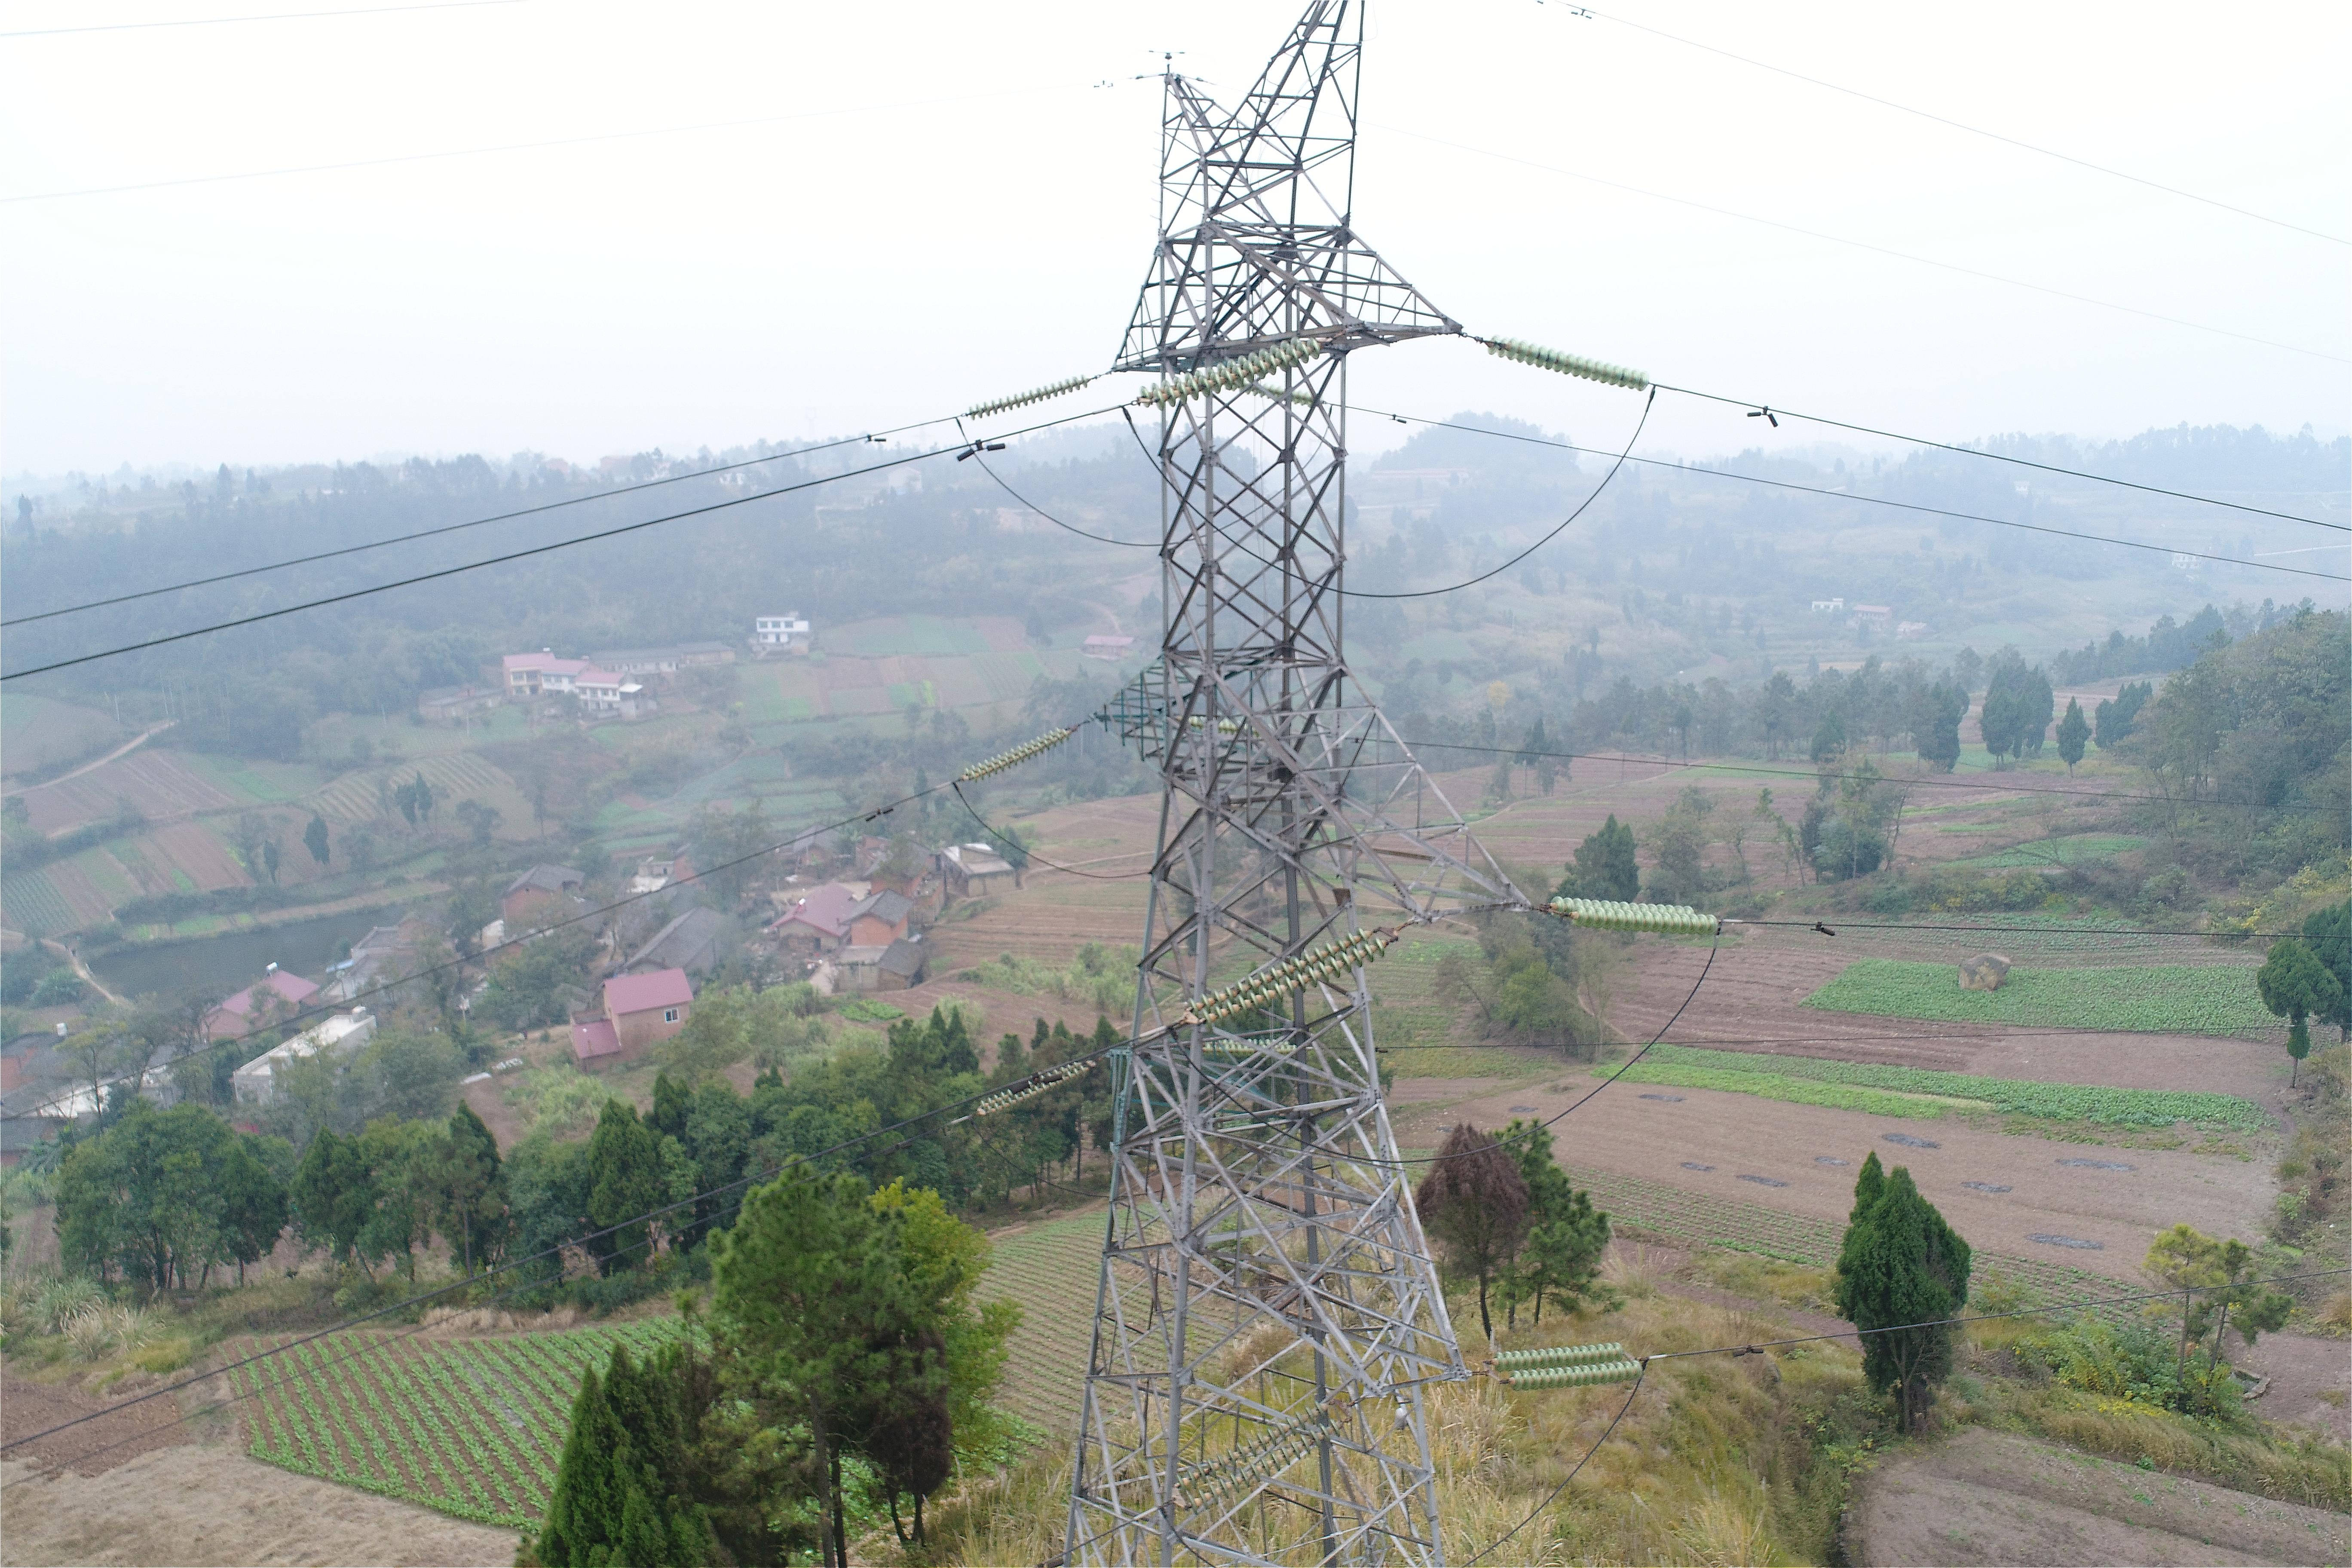insultor3: (1179, 908, 1389, 1034), (1134, 308, 1344, 420), (1178, 1393, 1337, 1519), (1491, 1328, 1648, 1400), (962, 350, 1087, 432), (955, 703, 1069, 791), (1493, 334, 1641, 397), (1552, 882, 1724, 933)
